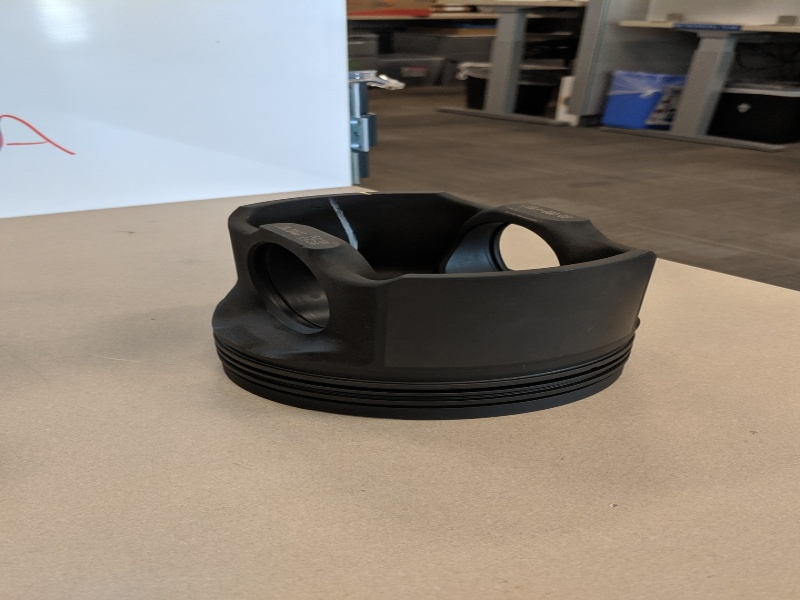piston: (204, 187, 661, 425)
